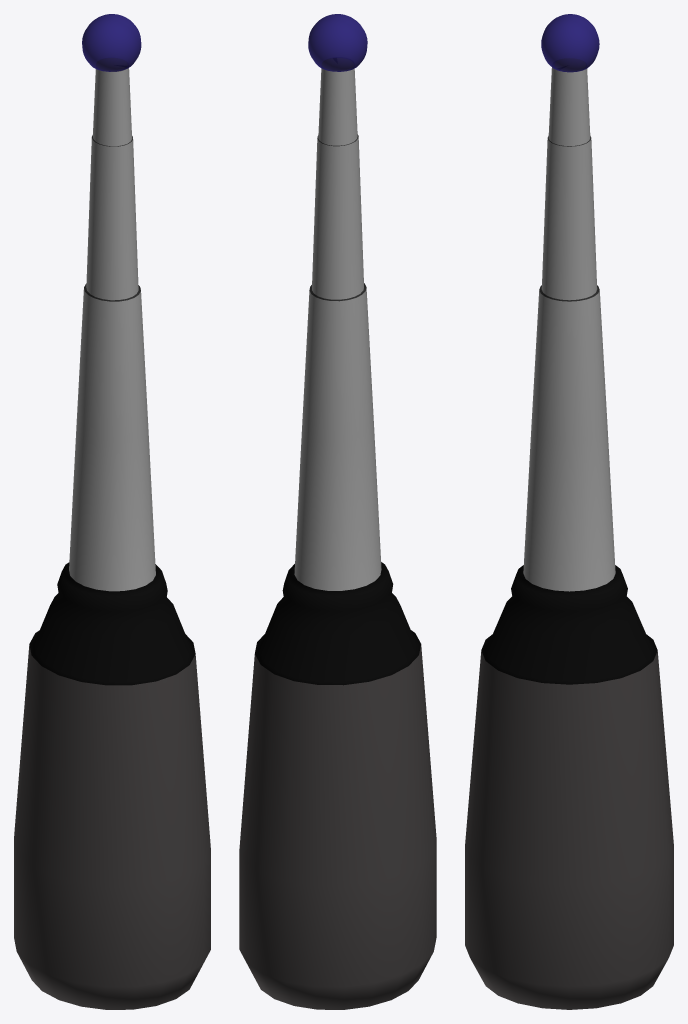
File: Baton.fbx
3 renders of one model, left to right at view 1: azimuth 30°, elevation 25°; view 2: azimuth 150°, elevation 25°; view 3: azimuth 270°, elevation 25°, orthographic.
Parts seen in each view (by area): view 1: pCylinder1, pSphere1; view 2: pCylinder1, pSphere1; view 3: pCylinder1, pSphere1.
Boxes of the visible parts, x1,y1,x2,y2 form: pCylinder1: (14,58,210,1009); pSphere1: (82,14,141,71); pCylinder1: (239,58,436,1009); pSphere1: (308,14,367,71); pCylinder1: (465,59,673,1009); pSphere1: (541,14,599,72).
Size of the model in its own units: 1.15 by 6.28 by 1.24.
